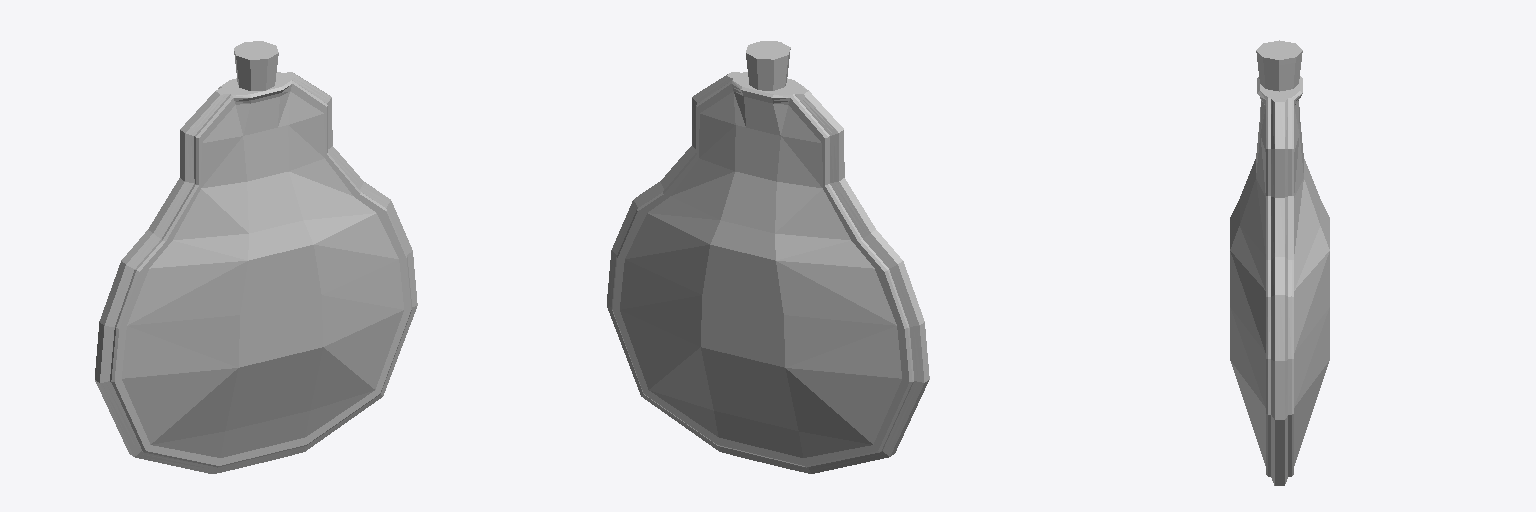
Rendered from pouch.obj.
3 views of the same model, side by side, from view 1: azimuth 30°, elevation 25°; view 2: azimuth 150°, elevation 25°; view 3: azimuth 270°, elevation 25° (orthographic).
Parts seen in each view (by area): view 1: pouch; view 2: pouch; view 3: pouch.
Part boxes in pixels (left/top/right/bottom): pouch: left=95, top=41, right=417, bottom=473; pouch: left=607, top=41, right=929, bottom=473; pouch: left=1230, top=40, right=1329, bottom=485.
Bounding box in the file's own units: 0.3501 × 0.4327 × 0.0953.